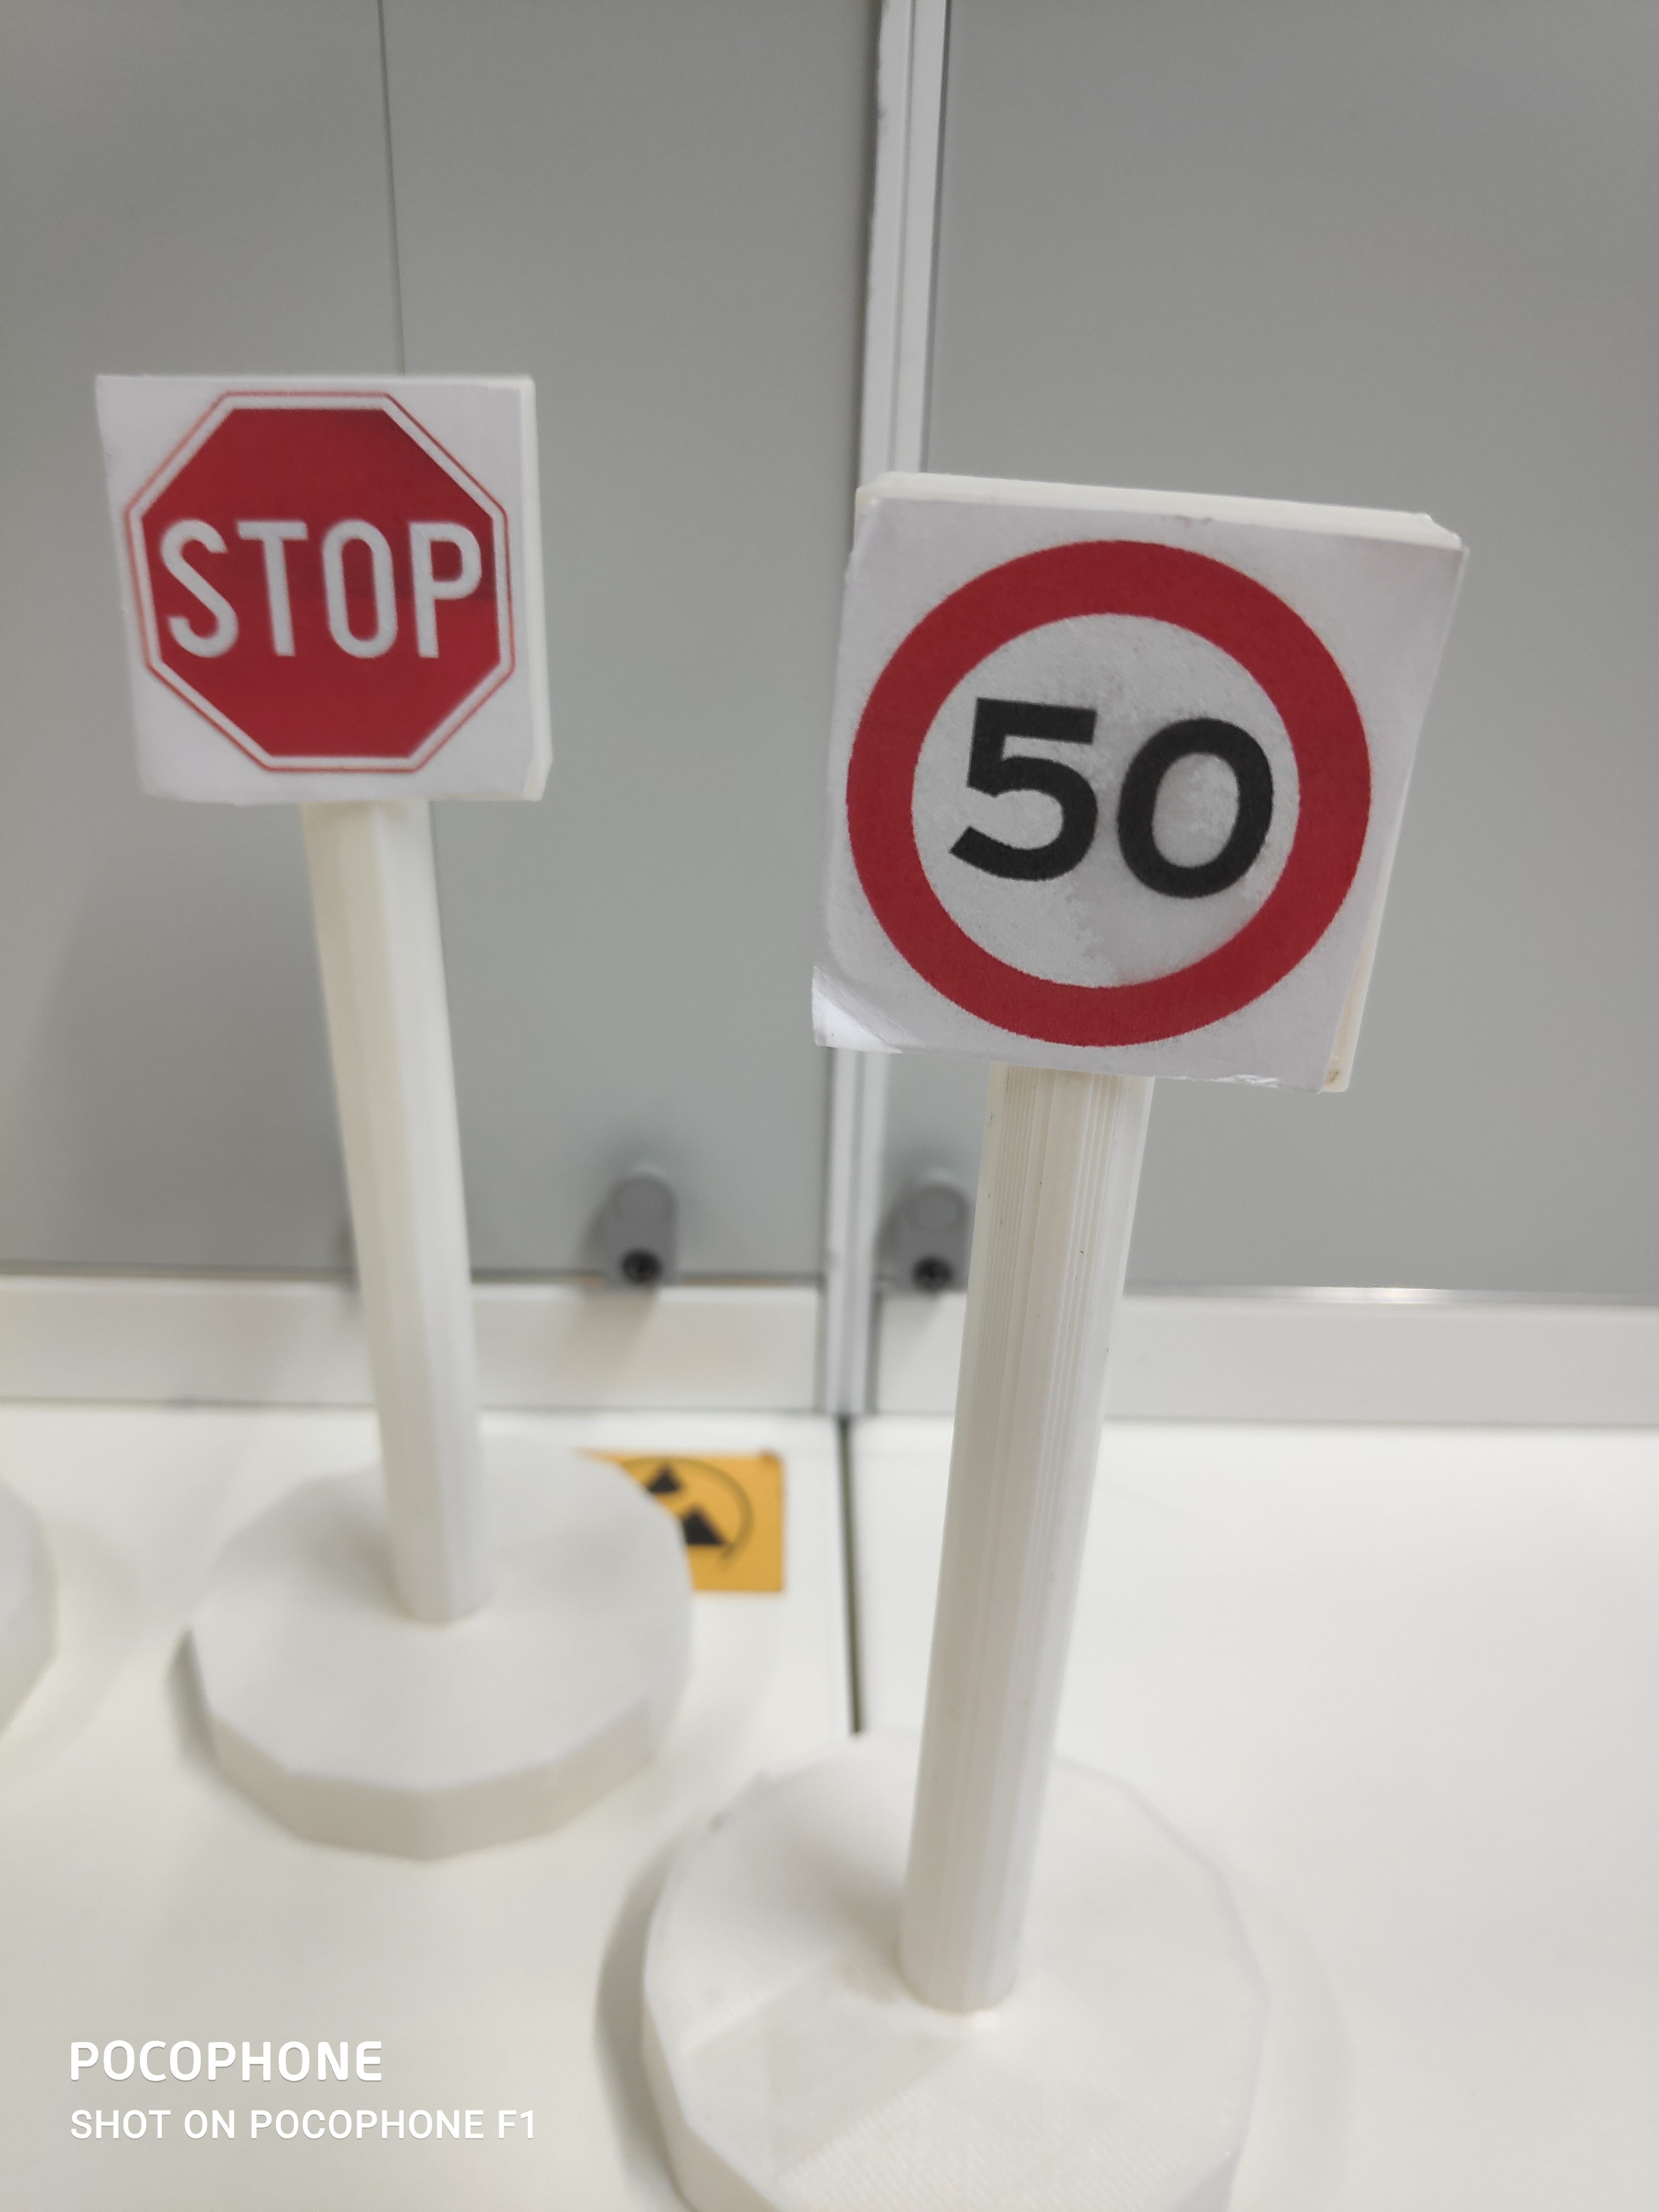50-bord: (835, 529, 1359, 1050)
stop-bord: (131, 390, 521, 786)
